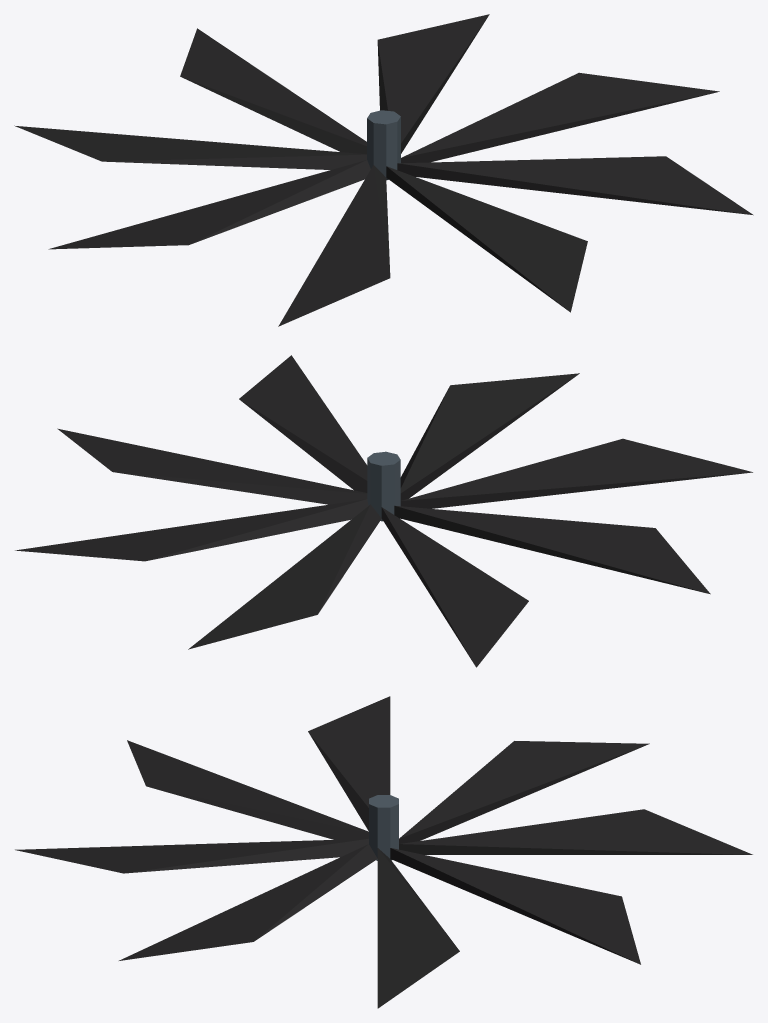
File: BombEnemyProppeler.obj
3 renders of one model, top to bottom at view 1: azimuth 30°, elevation 25°; view 2: azimuth 150°, elevation 25°; view 3: azimuth 270°, elevation 25°, orthographic. The views are drawn at different scales.
Parts seen in each view (by area): view 1: proppeler_Sphere.000; view 2: proppeler_Sphere.000; view 3: proppeler_Sphere.000.
Part boxes in pixels (left/top/right/bottom): proppeler_Sphere.000: left=14, top=14, right=753, bottom=326; proppeler_Sphere.000: left=15, top=355, right=752, bottom=667; proppeler_Sphere.000: left=15, top=696, right=752, bottom=1008.
Bounding box in the file's own units: 4.9 × 0.4272 × 4.9.
1 material, 1 textured.
